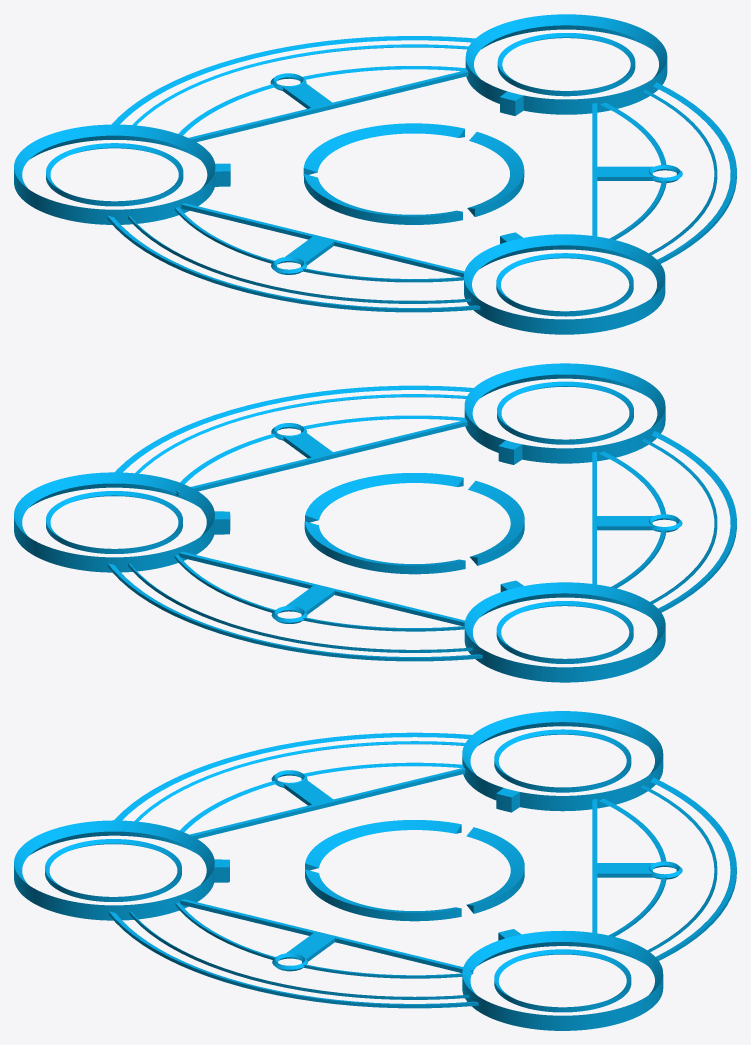
File: pso circle.obj
The picture shows the model from 3 angles, top to bottom: view 1: azimuth 30°, elevation 25°; view 2: azimuth 150°, elevation 25°; view 3: azimuth 270°, elevation 25°; orthographic projection.
Parts seen in each view (by area): view 1: pTorus15; view 2: pTorus15; view 3: pTorus15.
Part boxes in pixels (box(x1,y1,x2,y2)): pTorus15: box(14, 14, 736, 334); pTorus15: box(14, 363, 736, 682); pTorus15: box(14, 711, 736, 1030).
Size of the model in its own units: 7.17 by 0.1675 by 7.19.
